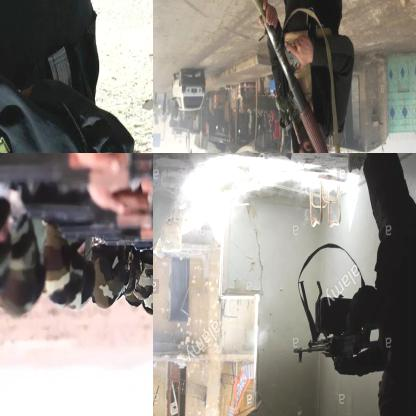rifle: (226, 0, 359, 152), (0, 31, 152, 152), (0, 153, 152, 219), (32, 173, 152, 231), (291, 300, 375, 365), (78, 185, 152, 241), (108, 210, 152, 254)
